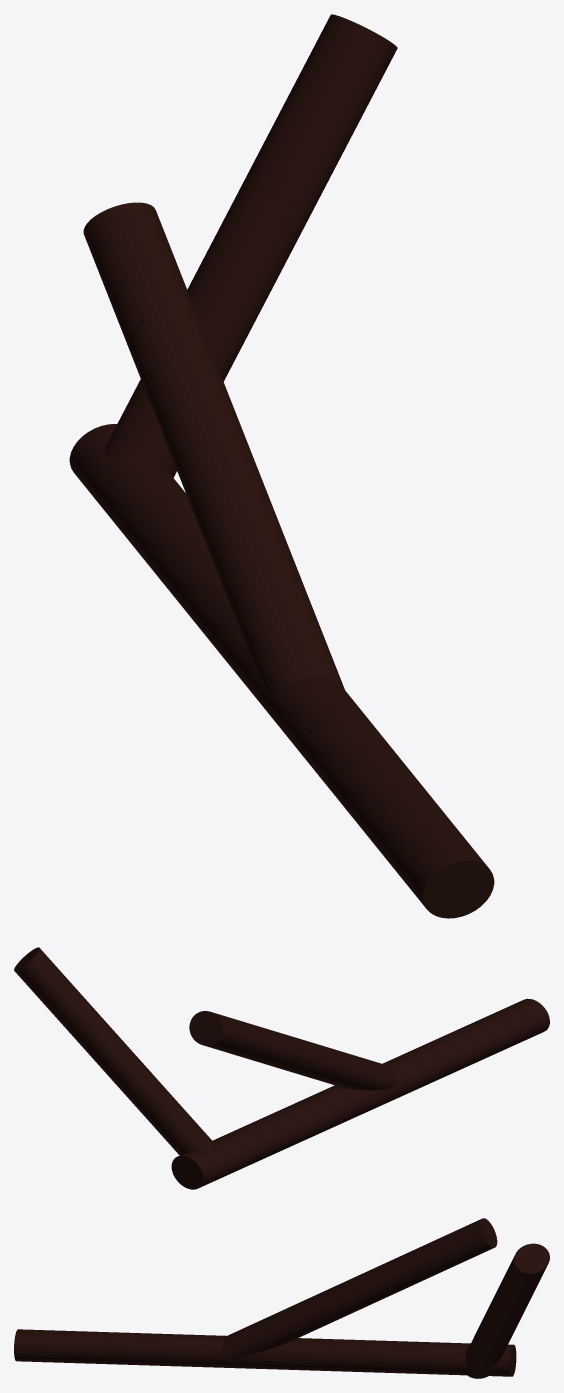
File: Branches1.obj
The picture shows the model from 3 angles, top to bottom: view 1: azimuth 30°, elevation 25°; view 2: azimuth 150°, elevation 25°; view 3: azimuth 270°, elevation 25°; orthographic projection. The views are drawn at different scales.
Visible parts, largest first — view 1: Cylinder.001, Cylinder, Cylinder.002; view 2: Cylinder, Cylinder.002, Cylinder.001; view 3: Cylinder, Cylinder.001, Cylinder.002.
Part boxes in pixels (x1=…): Cylinder.001: x1=83, y1=202, x2=344, y2=696; Cylinder: x1=69, y1=424, x2=494, y2=918; Cylinder.002: x1=104, y1=14, x2=397, y2=477; Cylinder: x1=171, y1=998, x2=549, y2=1189; Cylinder.002: x1=14, y1=947, x2=217, y2=1155; Cylinder.001: x1=189, y1=1011, x2=398, y2=1090; Cylinder: x1=14, y1=1329, x2=516, y2=1376; Cylinder.001: x1=222, y1=1218, x2=497, y2=1366; Cylinder.002: x1=465, y1=1243, x2=549, y2=1378.
Size of the model in its own units: 8.73 by 7.49 by 17.04.
